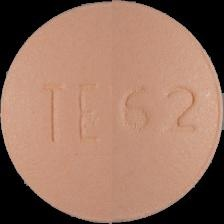63629-4593: (0, 0, 224, 224)
